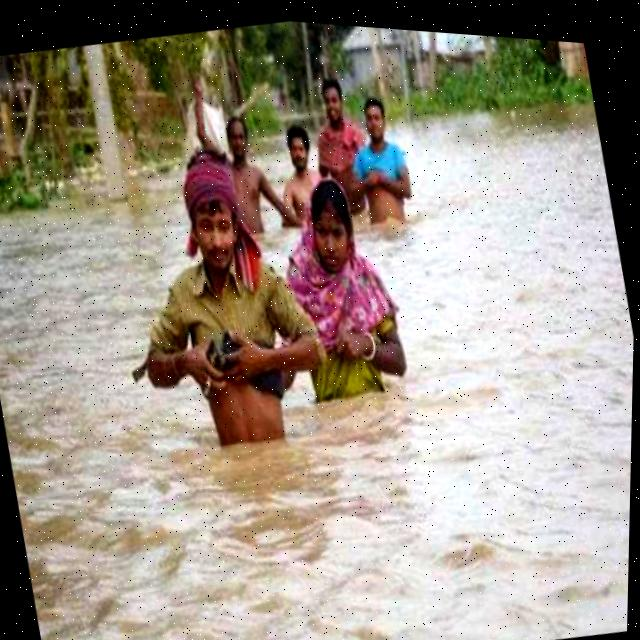civilian: (90, 129, 322, 491), (259, 157, 429, 424), (348, 87, 438, 250), (296, 61, 383, 226), (206, 99, 283, 246), (263, 112, 342, 228)
